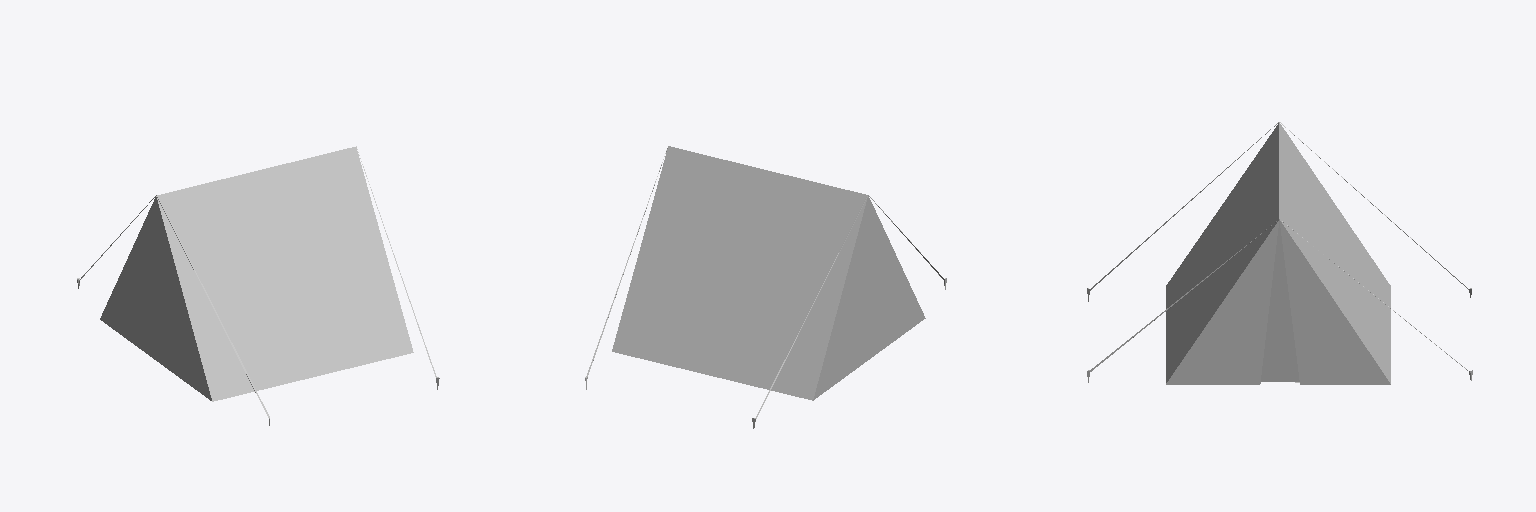
The model's file is Tent.obj.
The picture shows the model from 3 angles: view 1: azimuth 30°, elevation 25°; view 2: azimuth 150°, elevation 25°; view 3: azimuth 270°, elevation 25°; orthographic projection.
Parts seen in each view (by area): view 1: Tent_Plane, Tent.001_Plane.001; view 2: Tent_Plane, Tent.001_Plane.001; view 3: Tent_Plane, Tent.001_Plane.001.
Boxes of the visible parts, <box> form: Tent_Plane: <box>100,147,413,401</box>; Tent.001_Plane.001: <box>77,146,439,425</box>; Tent_Plane: <box>612,146,925,400</box>; Tent.001_Plane.001: <box>585,148,946,428</box>; Tent_Plane: <box>1166,122,1390,384</box>; Tent.001_Plane.001: <box>1087,122,1472,382</box>.
Size of the model in its own units: 2.06 by 1.68 by 3.43.